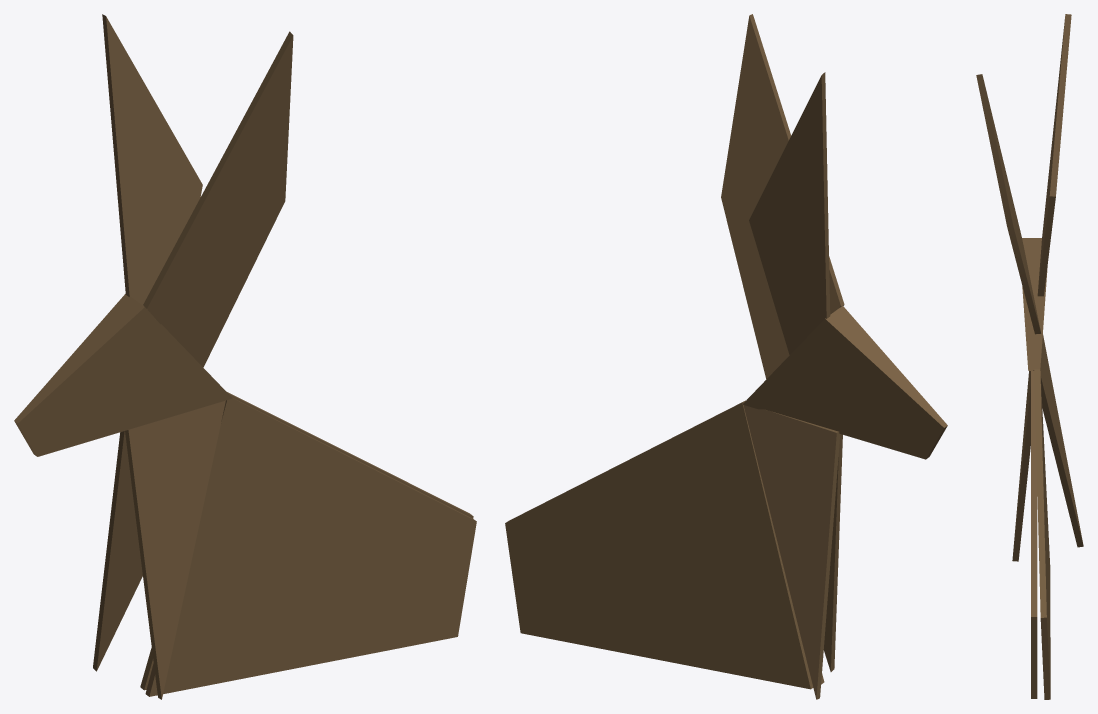
File: origami_lapin.fbx
3 views of the same model, side by side, from view 1: azimuth 30°, elevation 25°; view 2: azimuth 150°, elevation 25°; view 3: azimuth 270°, elevation 25° (orthographic). The views are drawn at different scales.
Parts seen in each view (by area): view 1: Corps, OreilleGauche, Tete, PatteGauche, OreilleDroite, PatteDroite, CorpsPli; view 2: CorpsPli, Tete, PatteDroite, OreilleDroite, OreilleGauche, PatteGauche; view 3: CorpsPli, OreilleGauche, OreilleDroite, PatteDroite, Corps, Tete, PatteGauche.
Part boxes in pixels (left/top/right/bottom): Corps: left=145, top=398, right=476, bottom=696; OreilleGauche: left=143, top=31, right=293, bottom=367; Tete: left=14, top=294, right=232, bottom=456; PatteGauche: left=125, top=400, right=225, bottom=699; OreilleDroite: left=102, top=14, right=202, bottom=305; PatteDroite: left=93, top=431, right=142, bottom=671; CorpsPli: left=140, top=392, right=473, bottom=690; CorpsPli: left=505, top=400, right=813, bottom=689; Tete: left=743, top=306, right=947, bottom=459; PatteDroite: left=743, top=402, right=840, bottom=699; OreilleDroite: left=749, top=72, right=830, bottom=354; OreilleGauche: left=721, top=14, right=844, bottom=378; PatteGauche: left=823, top=434, right=842, bottom=671; CorpsPli: left=1034, top=369, right=1050, bottom=699; OreilleGauche: left=976, top=74, right=1041, bottom=334; OreilleDroite: left=1037, top=14, right=1071, bottom=296; PatteDroite: left=1033, top=334, right=1083, bottom=547; Corps: left=1031, top=371, right=1037, bottom=698; Tete: left=1022, top=238, right=1047, bottom=370; PatteGauche: left=1012, top=371, right=1030, bottom=561.
Bounding box in the file's own units: 10.31 × 14.64 × 2.57.
